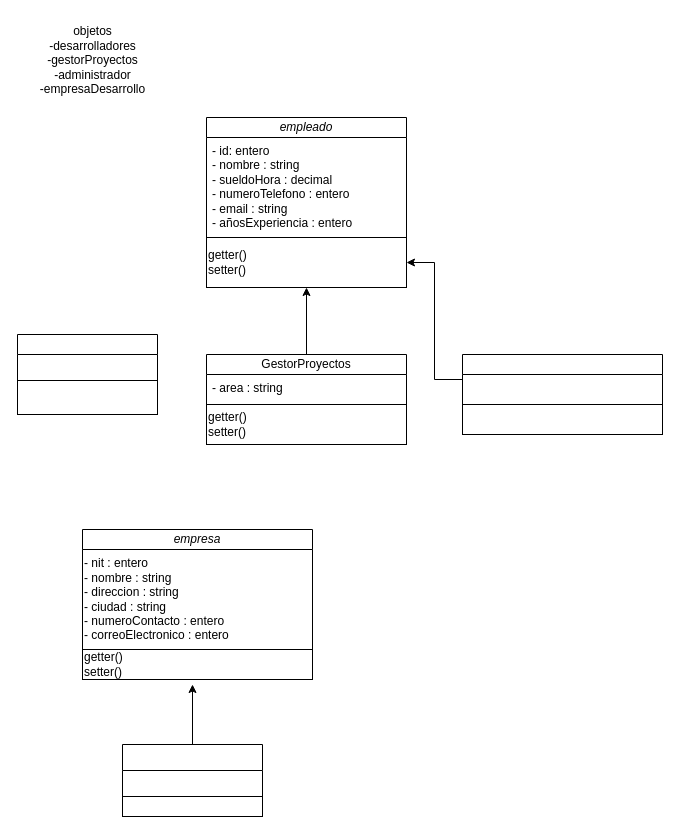
Image size: 680x834. Some labels were removed from this diagram. Here are the shapes that lost their labels. From the top down, the centre of each, then its label:
At point 87,357: "desarrollador".
At point 562,379: "Admin".
At point 192,770: "EmpresaDesarrollo".
